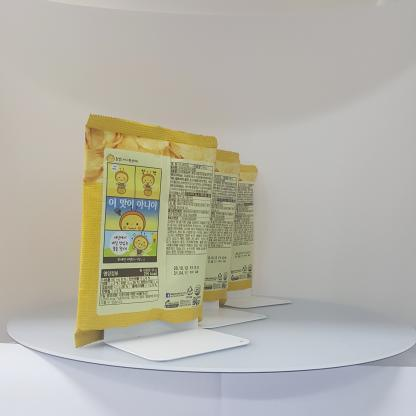Plastic Packaging: (66, 105, 222, 339)
